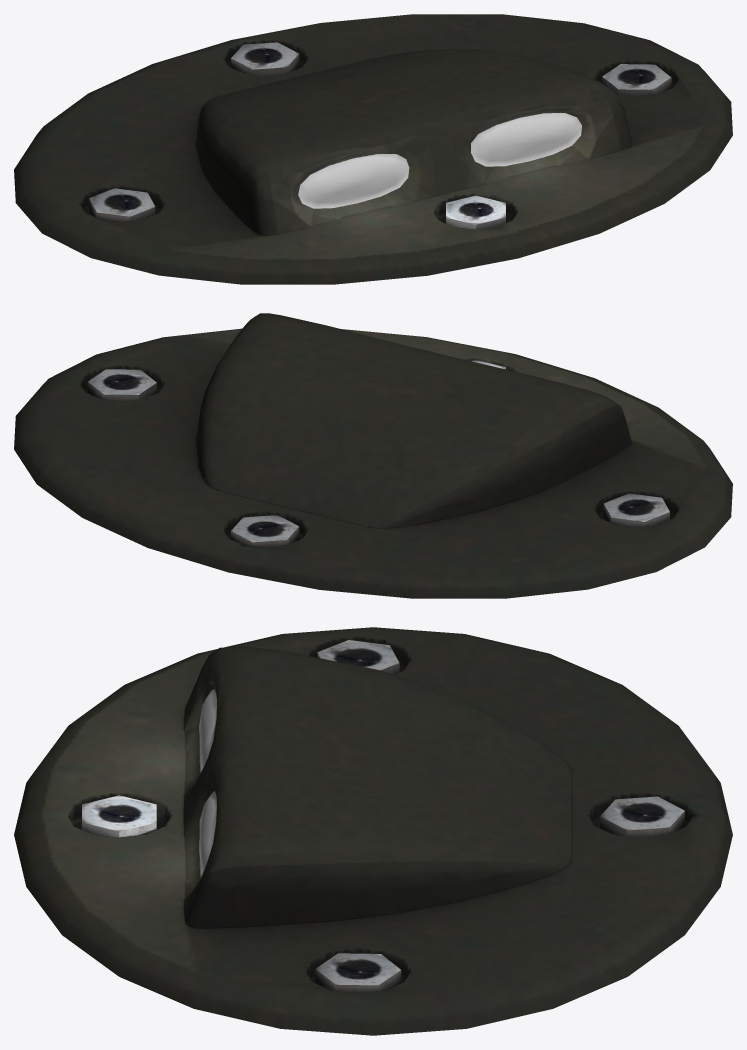
The model's file is unterflurfeuer_weiss.fbx.
3 views of the same model, one above another, from view 1: azimuth 30°, elevation 25°; view 2: azimuth 150°, elevation 25°; view 3: azimuth 270°, elevation 25° (orthographic). The views are drawn at different scales.
Parts seen in each view (by area): view 1: Mesh; view 2: Mesh; view 3: Mesh.
Part boxes in pixels (bbox=[...]): Mesh: bbox=[14, 14, 732, 284]; Mesh: bbox=[14, 313, 732, 598]; Mesh: bbox=[14, 627, 732, 1035].
Bounding box in the file's own units: 31.36 × 3.31 × 23.72.
